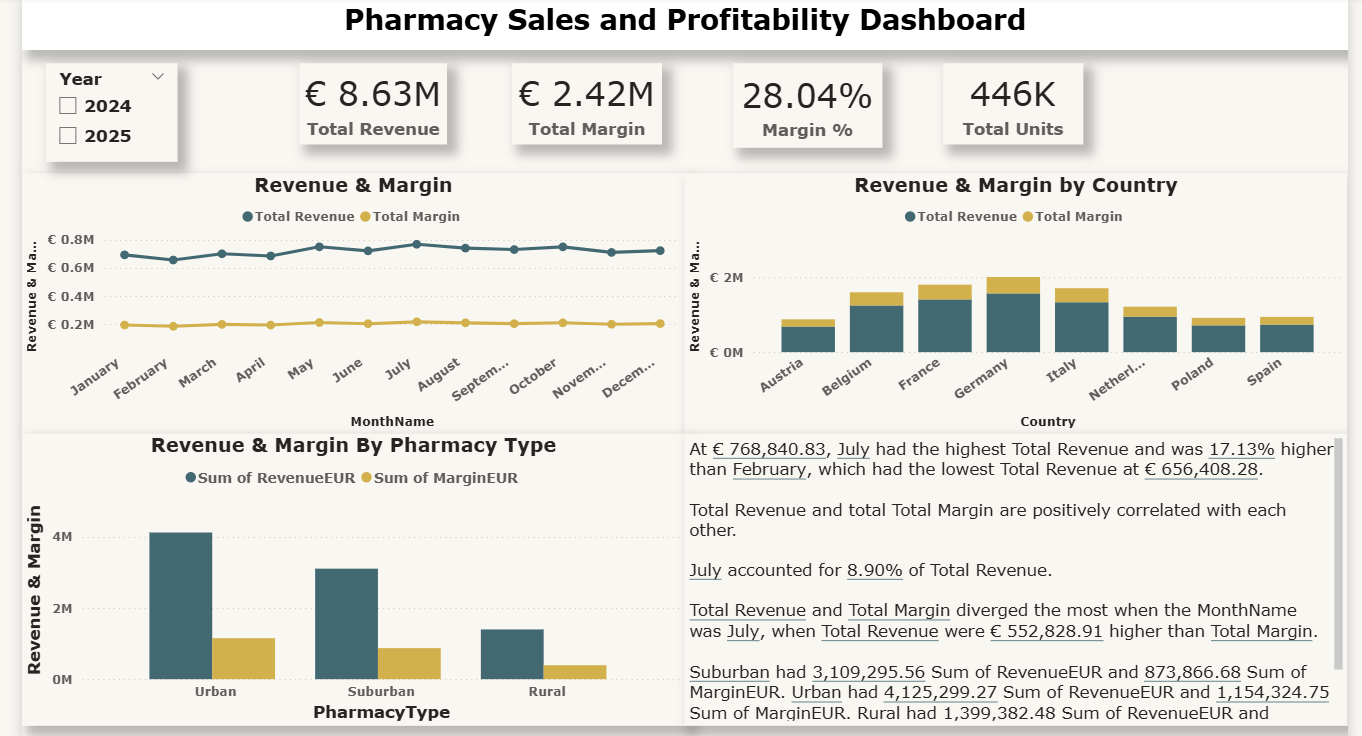

The dashboard page shown, as its layout file describes it:
{"tool":"powerbi","page":{"name":"Page 1","canvas":[1280,720],"ordinal":0},"visuals":[{"type":"textbox","box":[0,0,1280,51.2],"z":0},{"type":"card","fields":{"Values":["All Measures.Total Revenue"]},"box":[267.5,63.8,142.5,78.8],"z":1000},{"type":"card","fields":{"Values":["All Measures.Total Margin"]},"box":[472.5,63.8,145,78.8],"z":2000},{"type":"card","fields":{"Values":["All Measures.Margin %"]},"box":[686.2,63.8,143.8,81.2],"z":3000},{"type":"card","fields":{"Values":["All Measures.Total Units"]},"box":[888.8,63.8,135,78.8],"z":4000},{"type":"lineChart","title":"Revenue & Margin","fields":{"Category":["DimDate.MonthName"],"Y":["All Measures.Total Revenue","All Measures.Total Margin"]},"box":[0,170,640,251.2],"z":5000},{"type":"slicer","fields":{"Values":["DimDate.Year"]},"box":[22.5,63.8,127.5,95],"z":6000},{"type":"columnChart","title":"Revenue & Margin by Country","fields":{"Category":["DimPharmacy.Country","DimPharmacy.PharmacyName"],"Y":["All Measures.Total Revenue","All Measures.Total Margin"]},"box":[640,170,640,251.2],"z":7000},{"type":"clusteredColumnChart","title":"Revenue & Margin By Pharmacy Type","fields":{"Category":["DimPharmacy.PharmacyType"],"Y":["Sum(FactSales.RevenueEUR)","Sum(FactSales.MarginEUR)"]},"box":[0,421.2,640,282.5],"z":8000},{"type":"textbox","box":[640,421.2,640,282.5],"z":9000}]}

Visuals, with their boxes on the page's 1280x720 design canvas (x1, y1, x2, y2). These are canvas units, not pixel positions in the 1362x736 screenshot, which may show the page scaled, cropped or inside an application window:
textbox: (0, 0, 1280, 51)
card - All Measures.Total Revenue: (268, 64, 410, 143)
card - All Measures.Total Margin: (472, 64, 618, 143)
card - All Measures.Margin %: (686, 64, 830, 145)
card - All Measures.Total Units: (889, 64, 1024, 143)
"Revenue & Margin" lineChart: (0, 170, 640, 421)
slicer - DimDate.Year: (22, 64, 150, 159)
"Revenue & Margin by Country" columnChart: (640, 170, 1280, 421)
"Revenue & Margin By Pharmacy Type" clusteredColumnChart: (0, 421, 640, 704)
textbox: (640, 421, 1280, 704)
